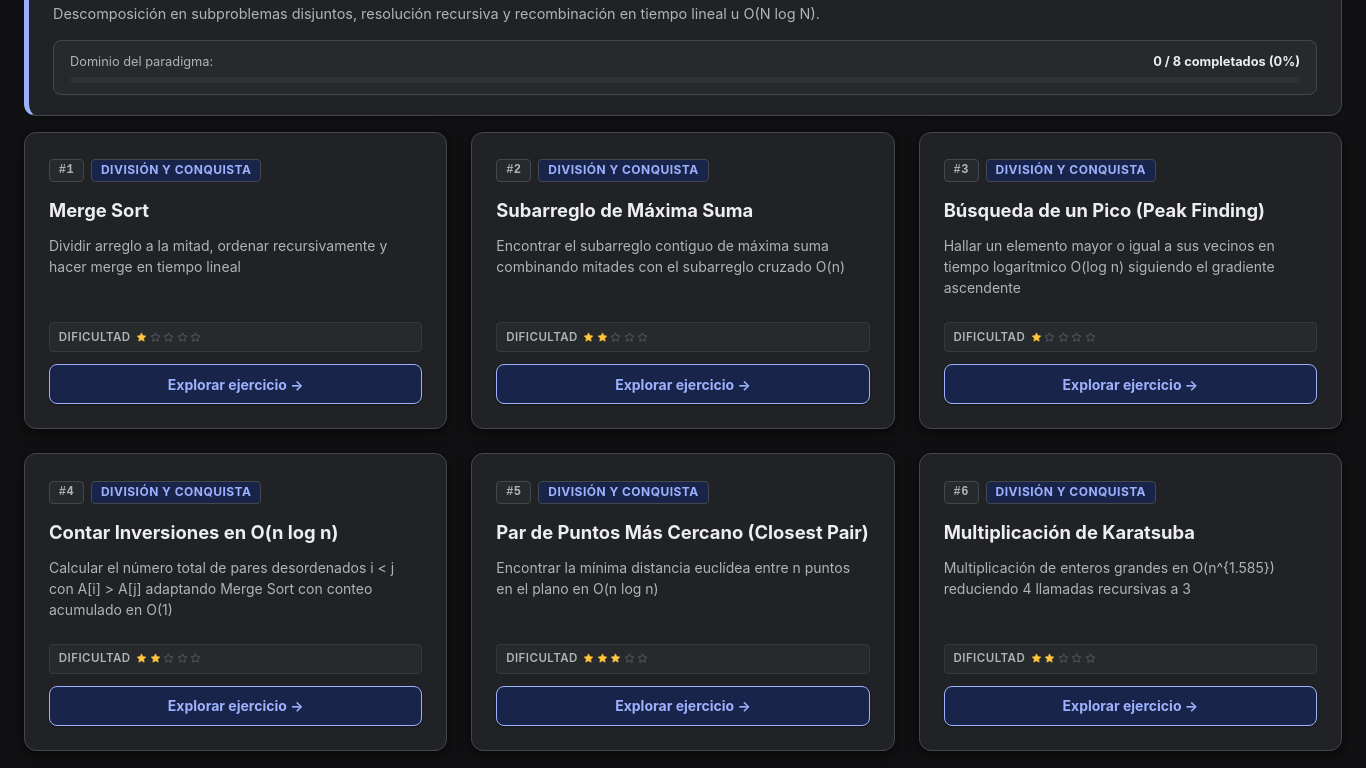
Scenario: Instructor Mode & Honest Skip Modal › intercepts direct click on Understand phase in PhaseSwitcher when locked and displays friction modal
This screenshot has width=1366, height=768.
(page scrolled)
Click the 1st button with class "btn-open-exercise" at (236, 384), box [49, 364, 422, 404]
(page scrolled)
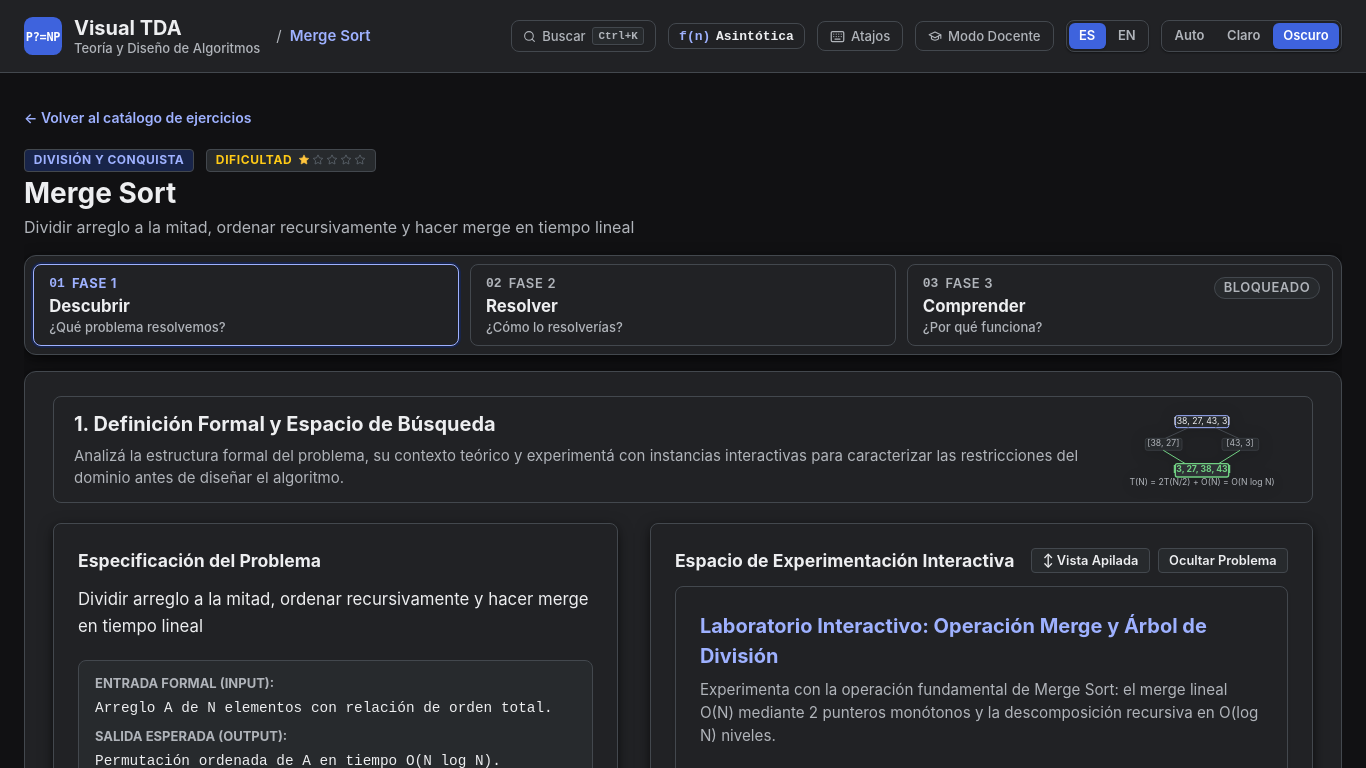
Check: the text "BLOQUEADO" is shown, box [1214, 277, 1320, 299]
Click the tab "03 Fase 3 Comprender ¿Por qué funciona? BLOQUEADO" at (969, 283), box [907, 264, 1333, 346]
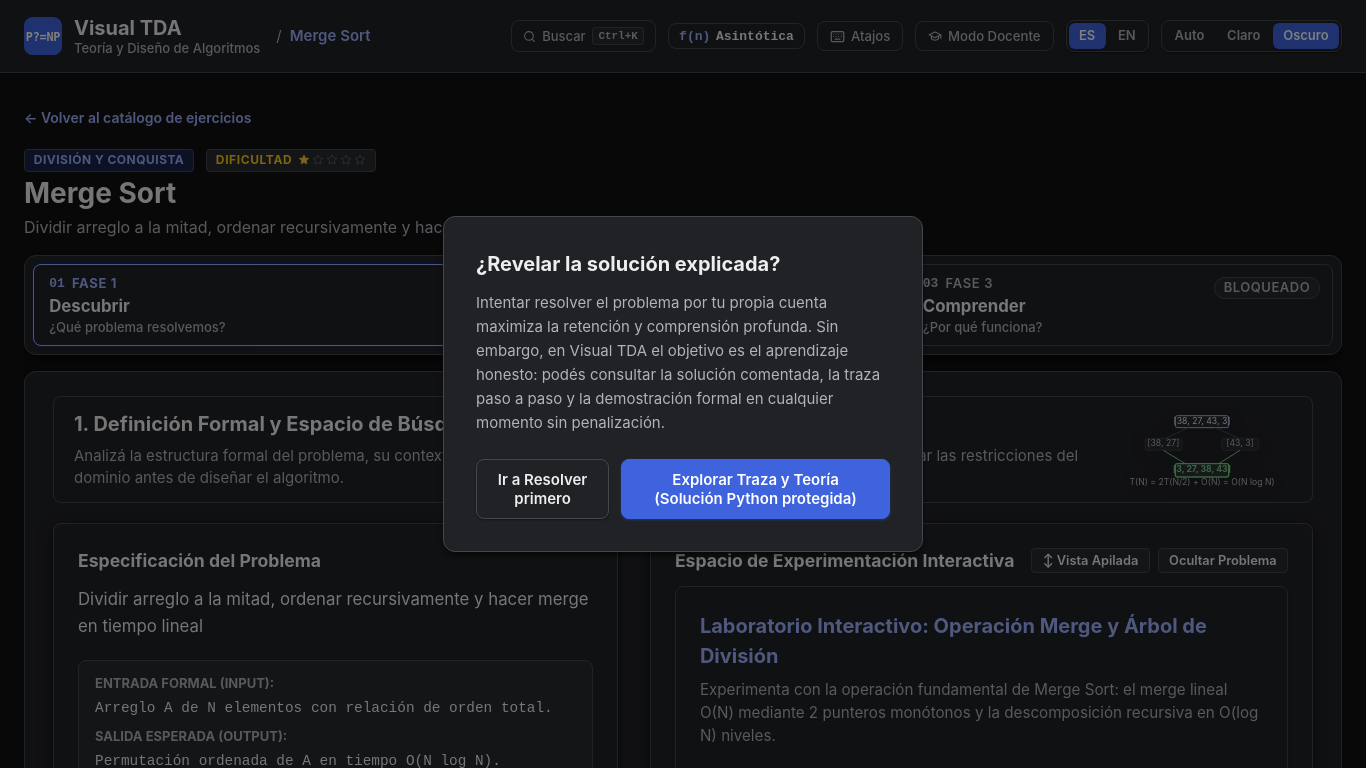
Check: the element with class "modal-card" is shown, box [443, 216, 923, 552]
Check: the element with class "modal-card" shows "¿Revelar la solución explicada?", box [476, 252, 780, 276]
Check: the button "Explorar Traza y Teoría (Solución Python protegida)" is shown
Click the button "Explorar Traza y Teoría (Solución Python protegida)" at (756, 489), box [621, 459, 890, 519]
(page scrolled)
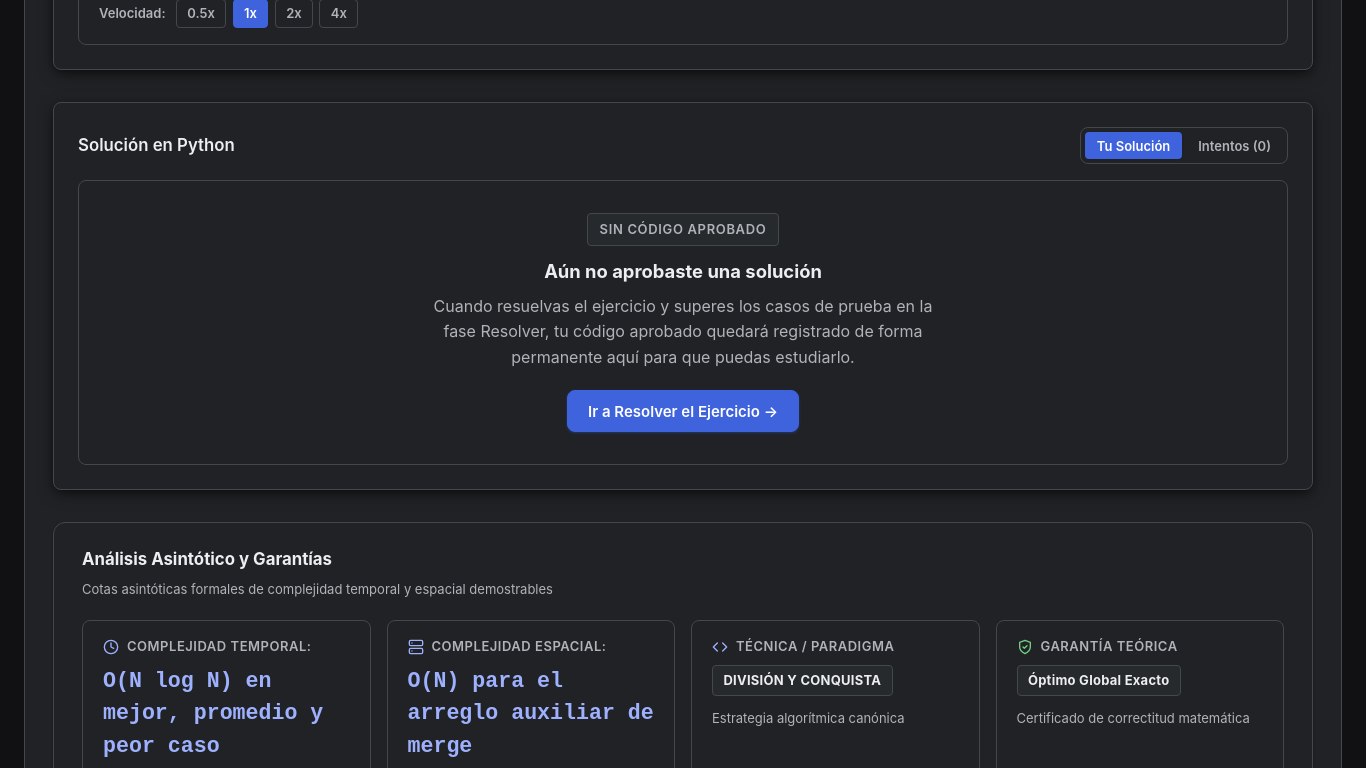
Check: the text "Solución en Python" is shown, box [78, 133, 235, 158]
